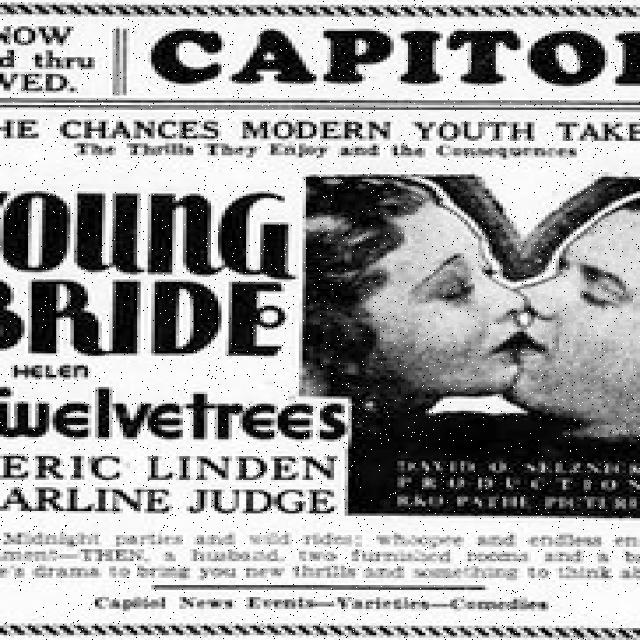movie-judul: (150, 25, 640, 93)
picture: (306, 172, 640, 518)
